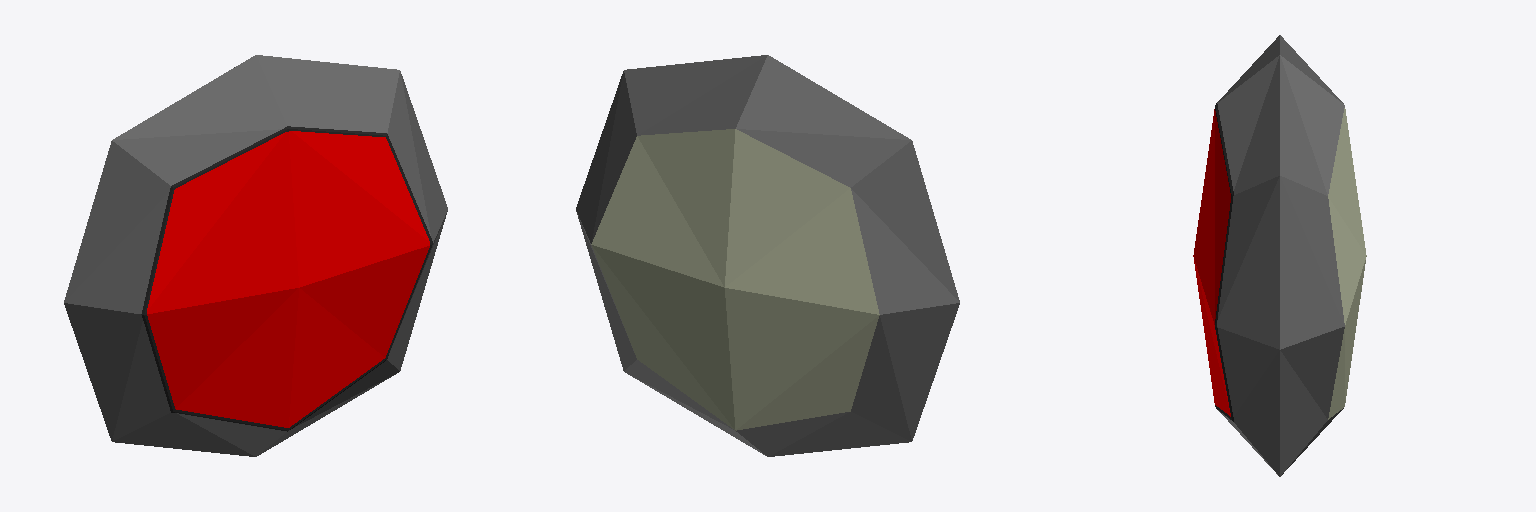
3 renders of one model, left to right at view 1: azimuth 30°, elevation 25°; view 2: azimuth 150°, elevation 25°; view 3: azimuth 270°, elevation 25°, orthographic.
Visible parts, largest first — view 1: switch; view 2: switch; view 3: switch.
Boxes of the visible parts, x1,y1,x2,y2 form: switch: [64, 55, 447, 456]; switch: [576, 55, 959, 456]; switch: [1193, 35, 1366, 476].
Size of the model in its own units: 0.3011 by 0.3011 by 0.1174.
2 materials, 1 textured.